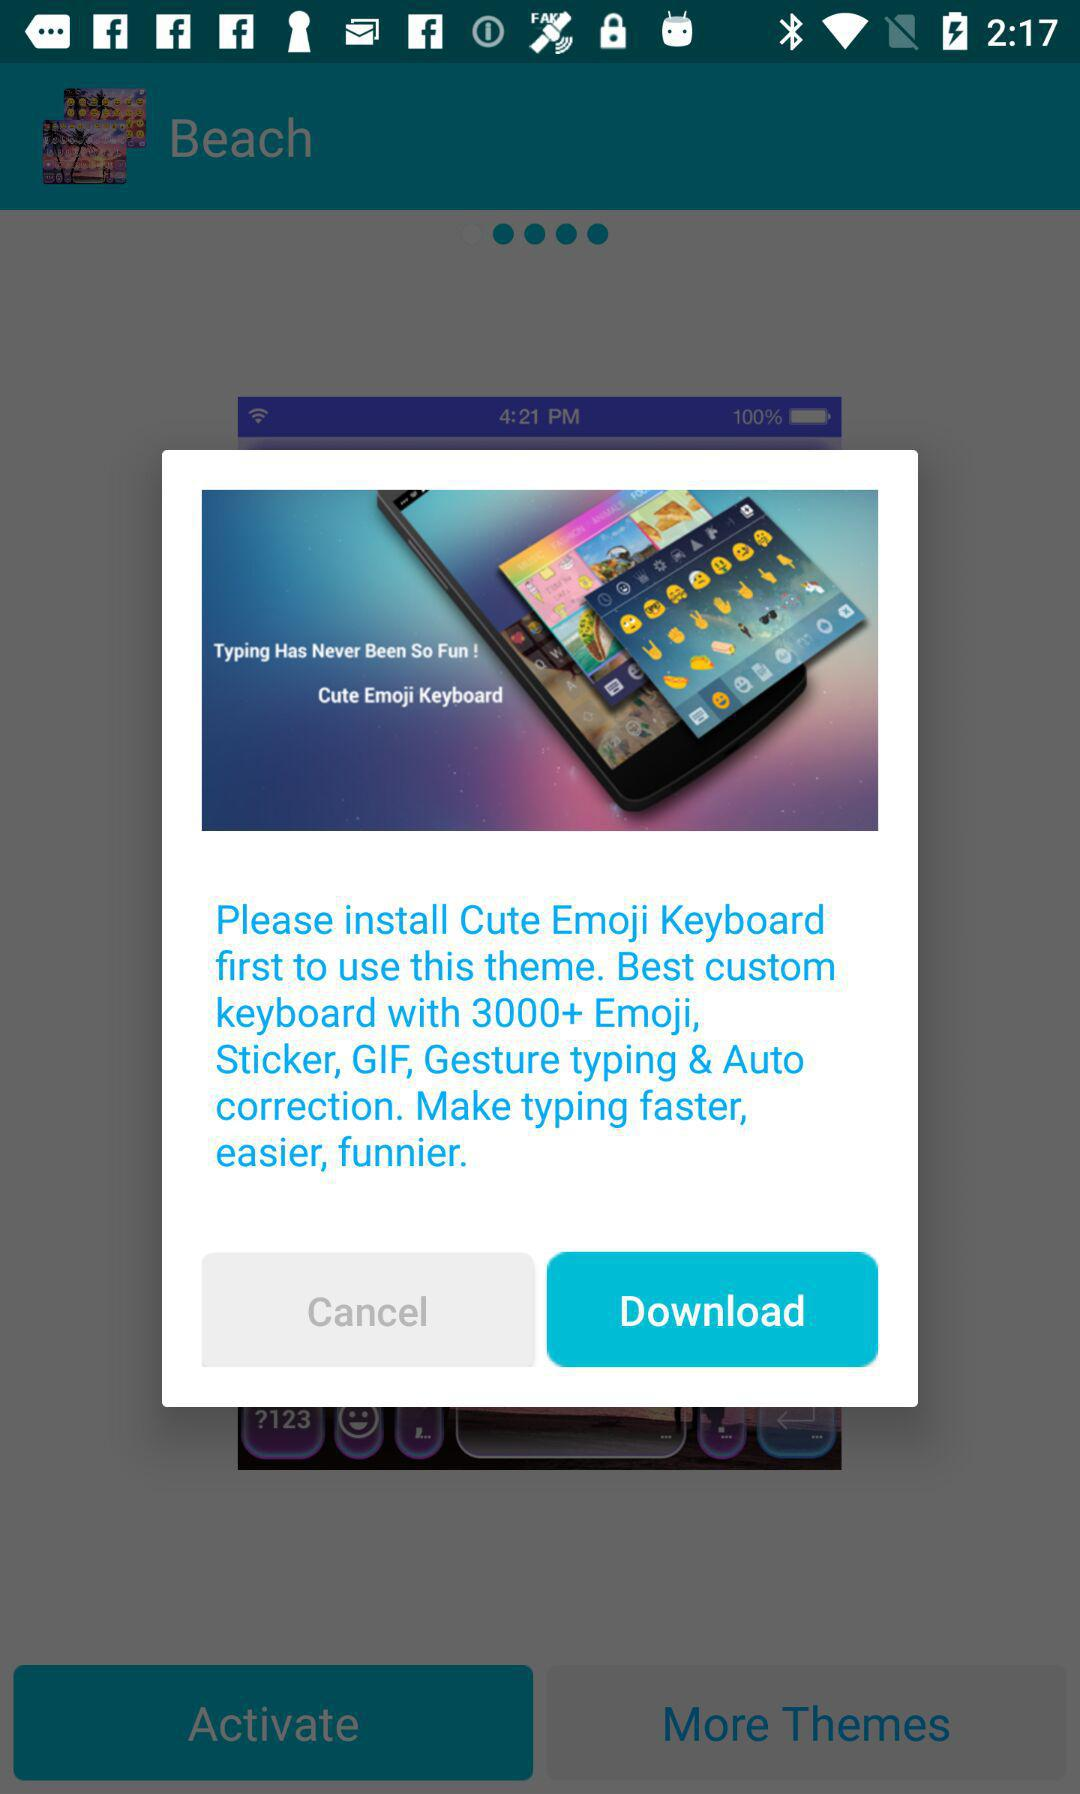Image: (202, 491, 878, 830), (44, 88, 147, 187)
Modal: (163, 451, 919, 1407)
PageIndicator: (491, 223, 609, 246)
Text: (217, 903, 834, 1174), (172, 117, 313, 160)
TextButton: (13, 1663, 536, 1781), (546, 1666, 1067, 1781), (547, 1252, 879, 1369), (202, 1252, 536, 1367)
UpperTaskBar: (1, 1, 1080, 64)
